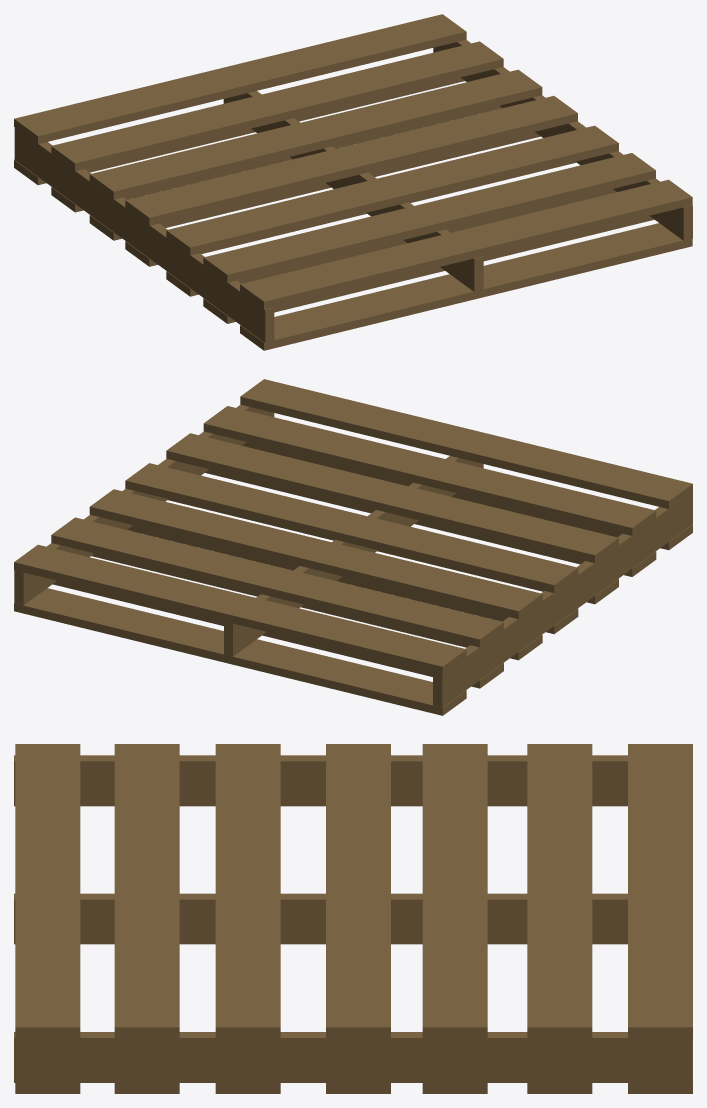
The model's file is WoodPallet.fbx.
3 views of the same model, one above another, from view 1: azimuth 30°, elevation 25°; view 2: azimuth 150°, elevation 25°; view 3: azimuth 270°, elevation 25° (orthographic). The views are drawn at different scales.
Visible parts, largest first — view 1: Pallet; view 2: Pallet; view 3: Pallet.
Boxes of the visible parts, x1,y1,x2,y2 form: Pallet: (14,14,692,350); Pallet: (14,379,692,715); Pallet: (14,744,692,1093).
Size of the model in its own units: 2.47 by 0.2705 by 2.5.
